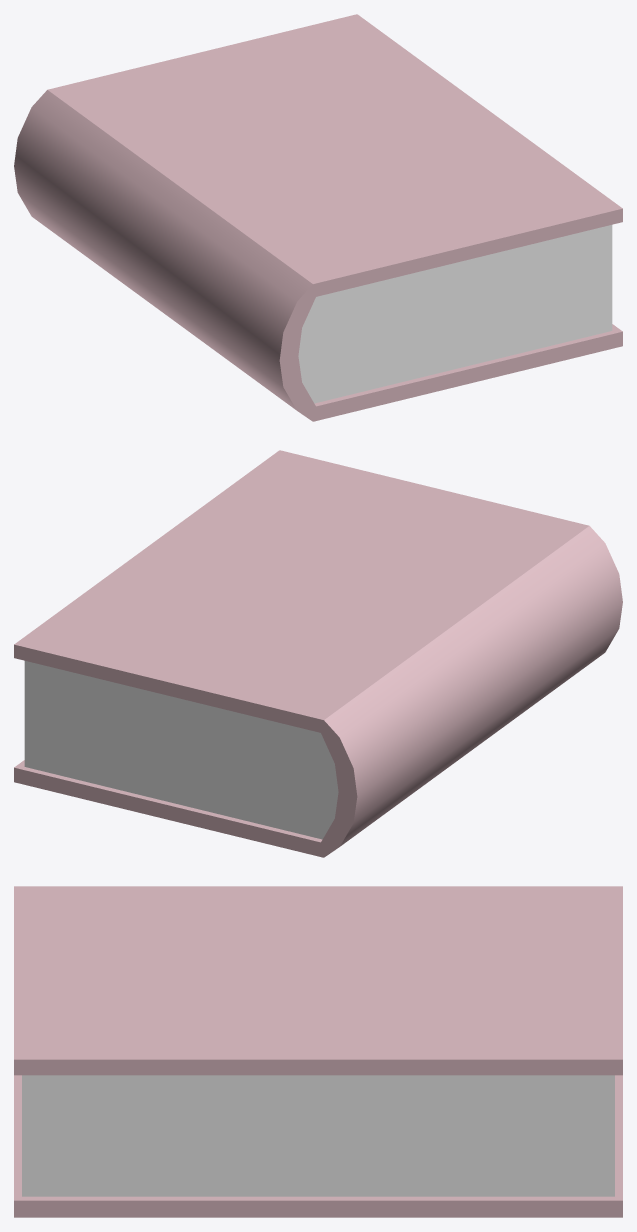
File: book_1.glb
3 views of the same model, one above another, from view 1: azimuth 30°, elevation 25°; view 2: azimuth 150°, elevation 25°; view 3: azimuth 270°, elevation 25° (orthographic). The views are drawn at different scales.
Visible parts, largest first — view 1: Cube, Cube 2; view 2: Cube, Cube 2; view 3: Cube, Cube 2.
Part boxes in pixels (left/top/right/bottom): Cube: left=14, top=14, right=622, bottom=421; Cube 2: left=298, top=225, right=612, bottom=403; Cube: left=14, top=450, right=622, bottom=857; Cube 2: left=24, top=661, right=338, bottom=839; Cube: left=14, top=886, right=622, bottom=1217; Cube 2: left=22, top=1075, right=614, bottom=1196.
Bounding box in the file's own units: 0.7504 × 0.2875 × 1.01.
